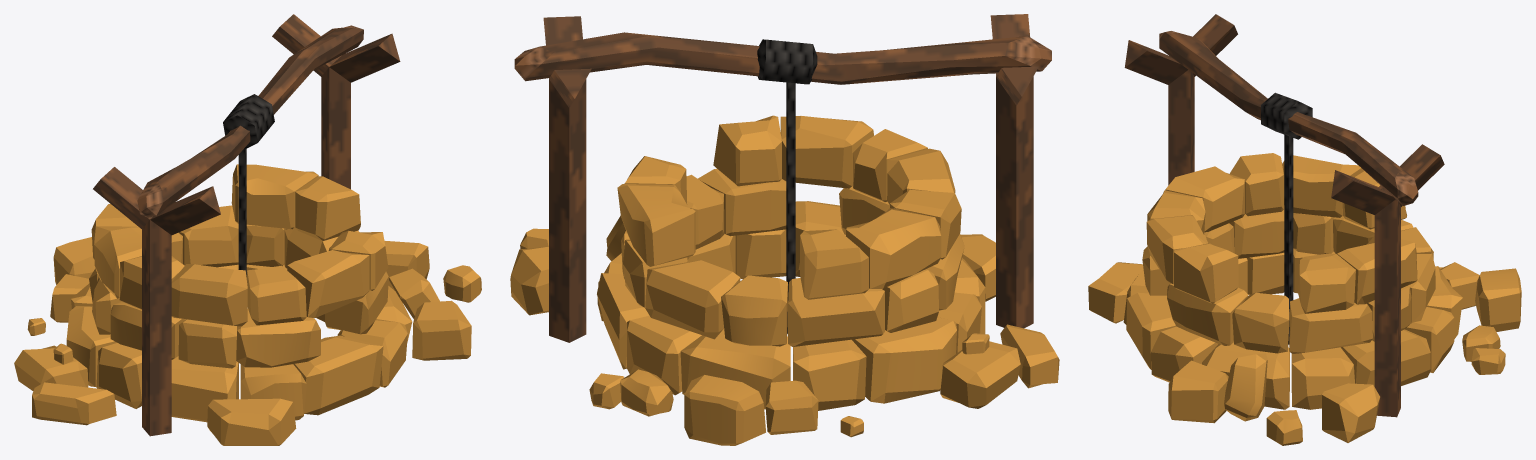
The model's file is Well_SlightlyDamaged.fbx.
The picture shows the model from 3 angles, left to right: view 1: azimuth 30°, elevation 25°; view 2: azimuth 150°, elevation 25°; view 3: azimuth 270°, elevation 25°; orthographic projection. The views are drawn at different scales.
Parts seen in each view (by area): view 1: well slightly damaged; view 2: well slightly damaged; view 3: well slightly damaged.
Boxes of the visible parts, x1,y1,x2,y2 form: well slightly damaged: [14, 14, 481, 445]; well slightly damaged: [510, 14, 1059, 445]; well slightly damaged: [1088, 14, 1521, 445].
Bounding box in the file's own units: 202 × 110 × 170.
